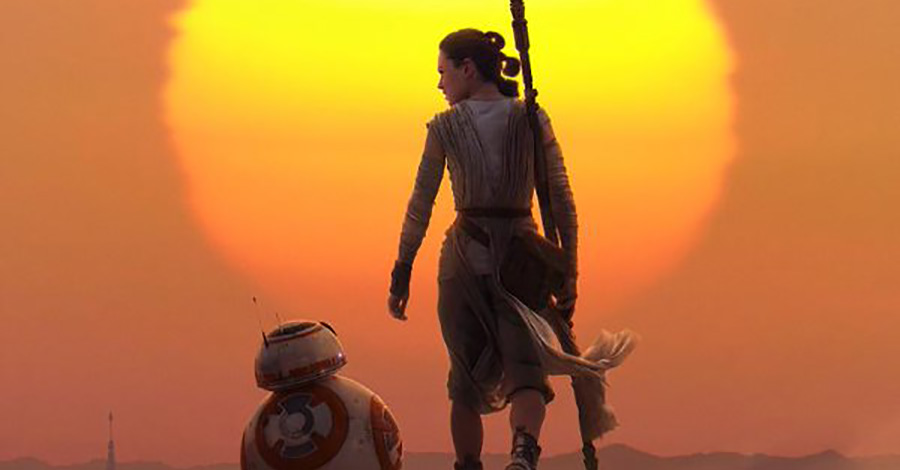bb8: (240, 320, 403, 470)
